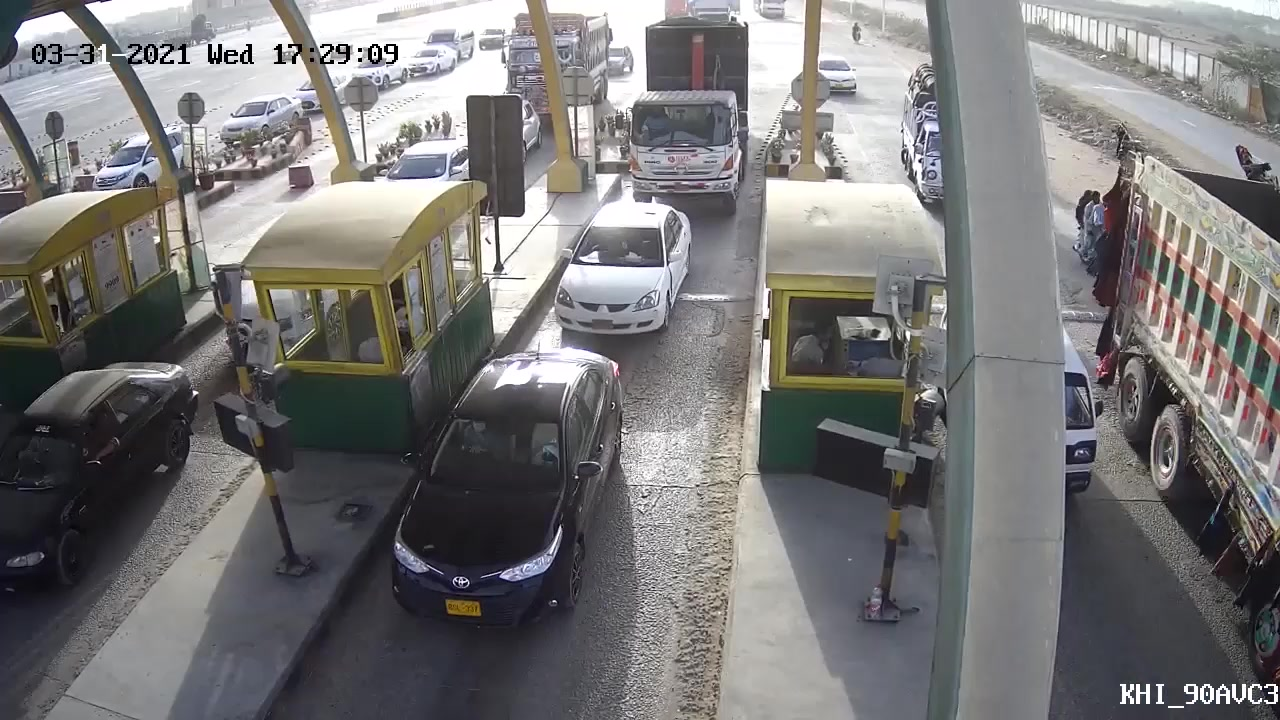F1: (376, 342, 629, 630)
